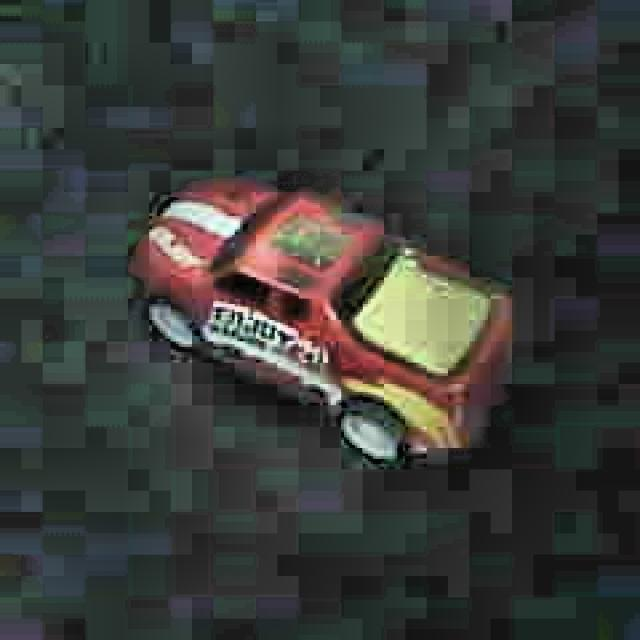car: (128, 163, 527, 470)
